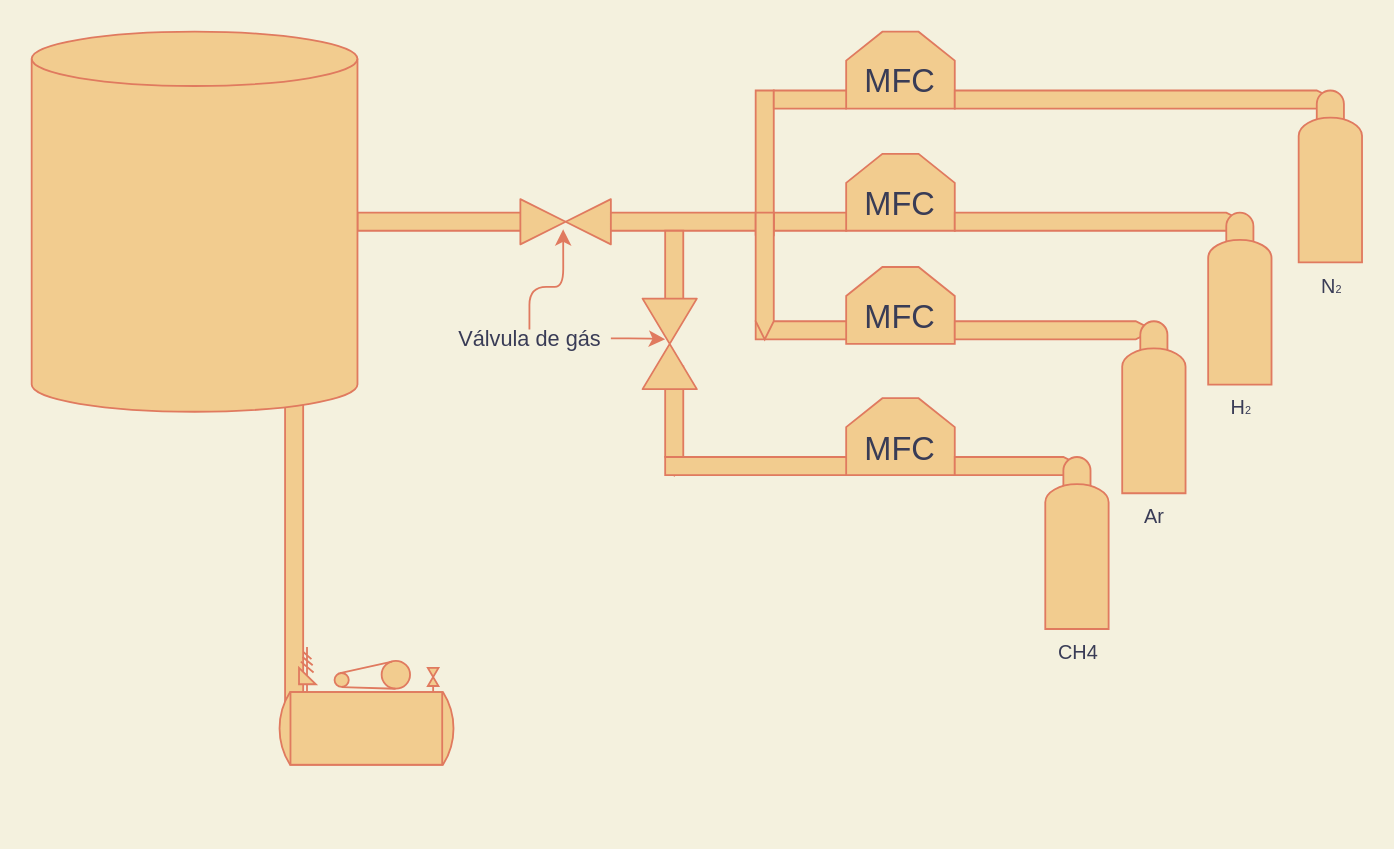
Some shapes in this 1394 by 849 pixel diagram are drawn without their labels. Each missing label, with the centre of its shape:
Bomba de vácuo: pixel 365 705
Câmara de vácuo: pixel 193 221
